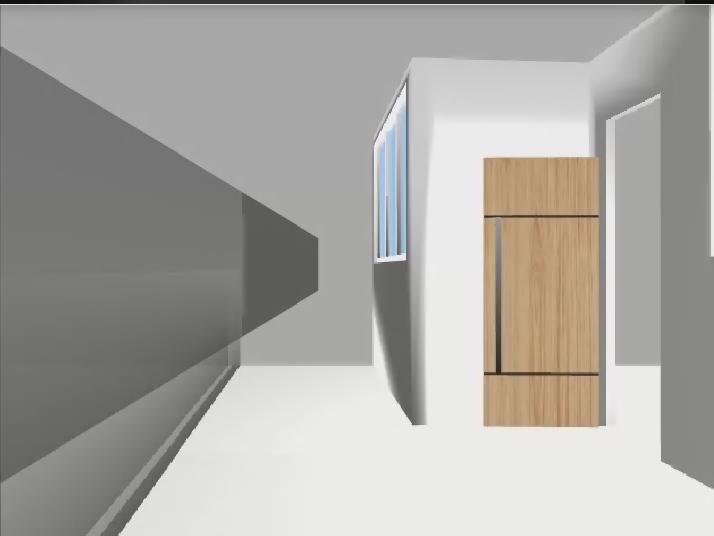door: (483, 157, 600, 427)
